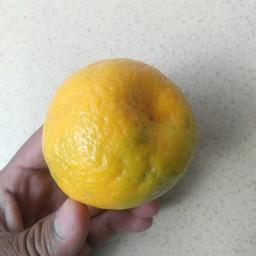Good_orange: (38, 54, 201, 214)
